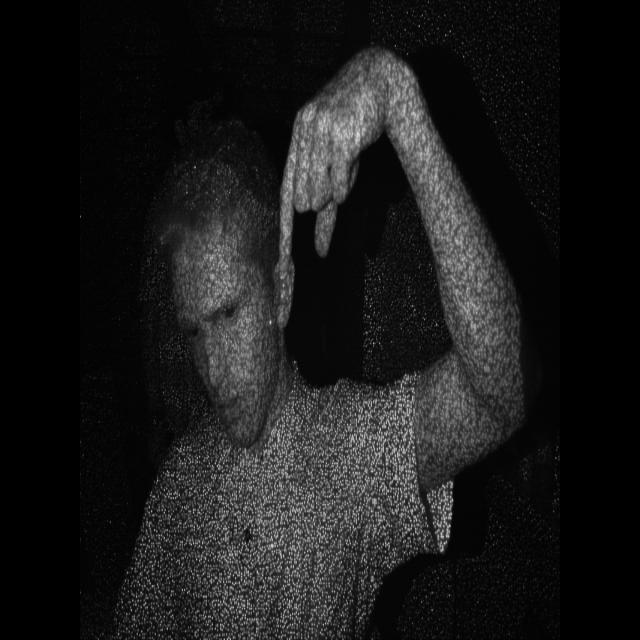Q: (275, 21, 428, 279)
